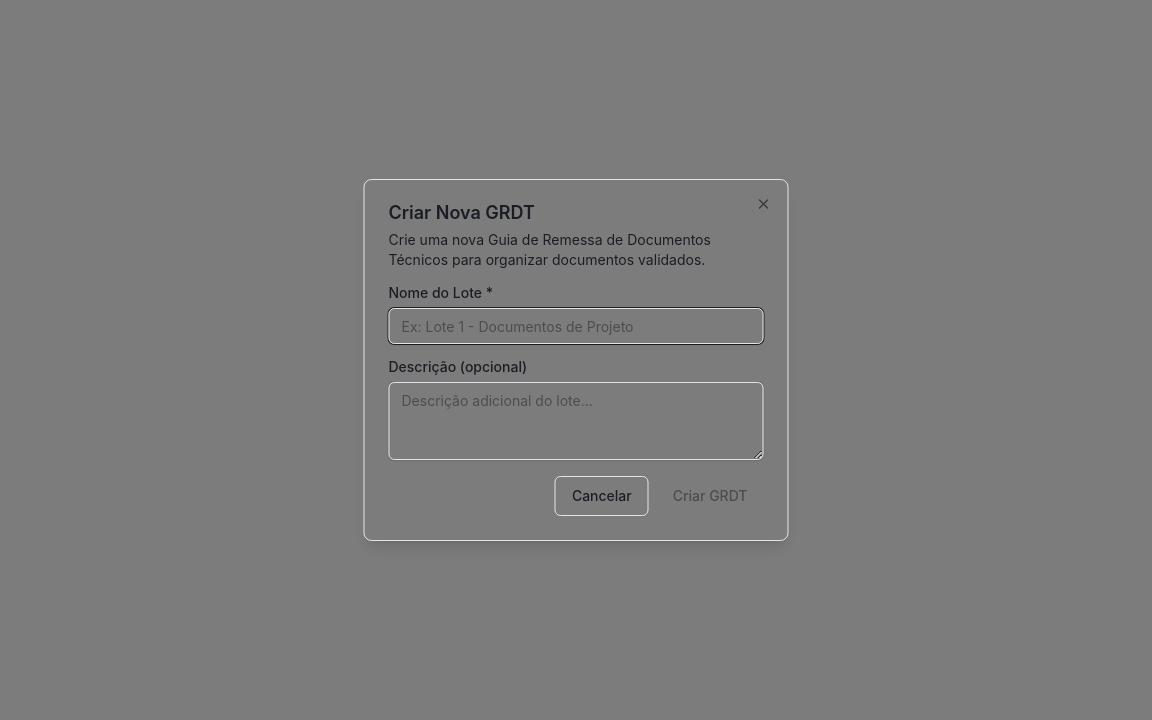
Test: CreateBatchDialog › button should be disabled if name is empty
Expected: the button "Criar GRDT" is disabled, [657,476,764,516]
Step 1. Type "Test" into the field labelled "Nome do Lote *" → (576, 326), box [388,308,764,344]
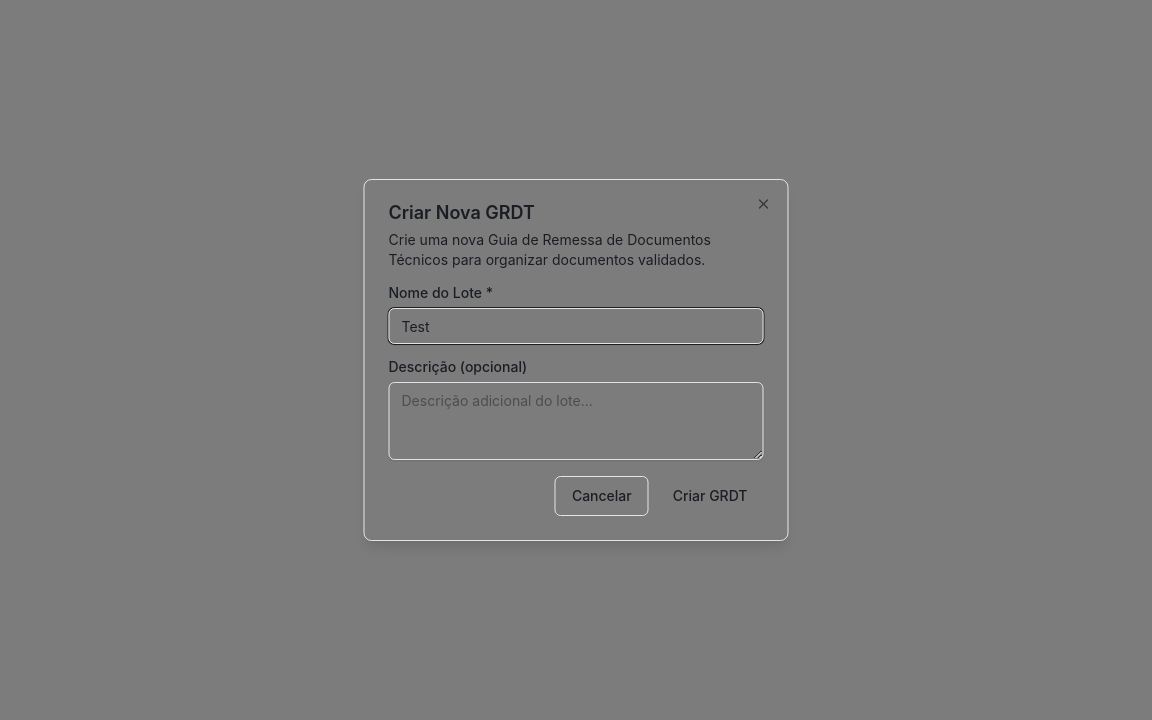
Now the button "Criar GRDT" is enabled, box [657,476,764,516]
